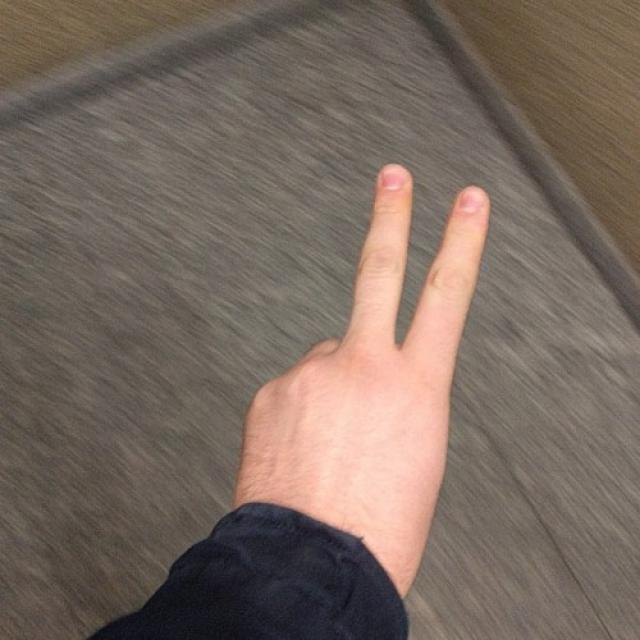scissors: (240, 154, 491, 511)
